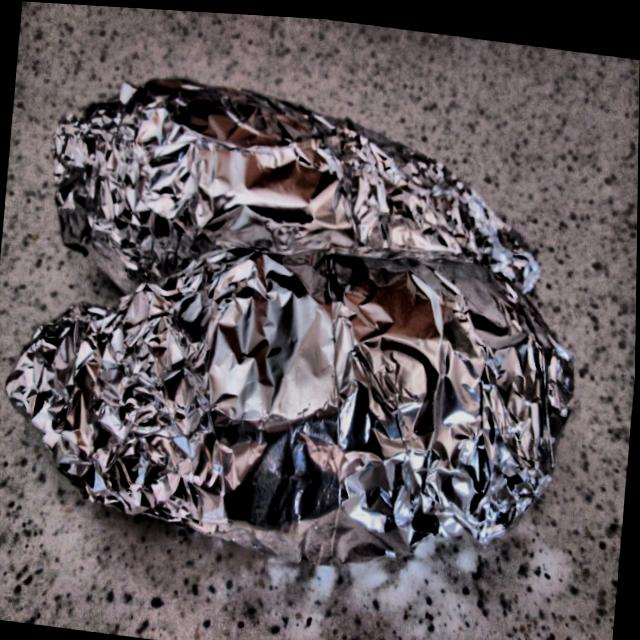Foil: (0, 50, 596, 597)
